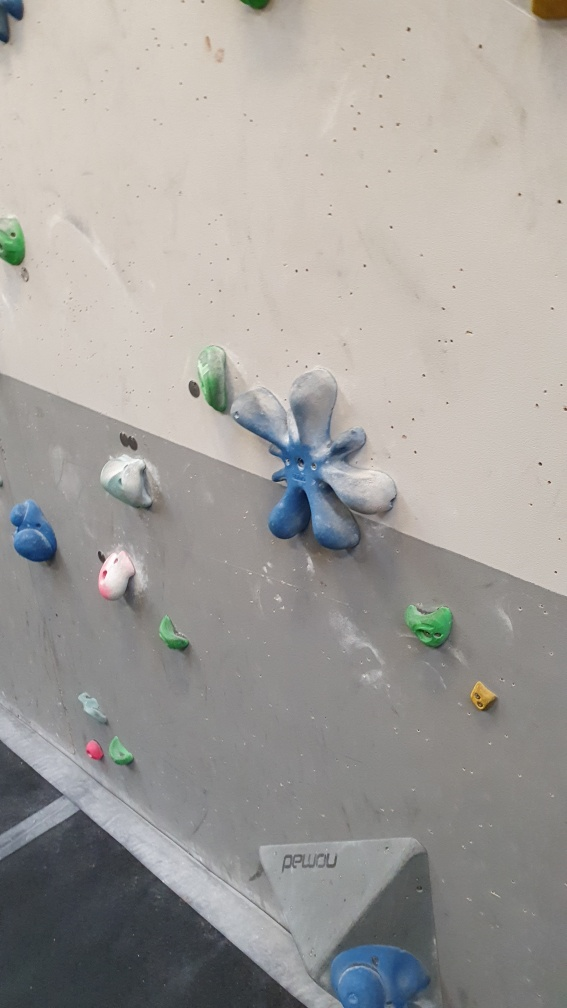Hand Start: (185, 380, 207, 399), (126, 438, 141, 450)
Jug: (399, 600, 456, 652), (109, 455, 156, 512), (199, 345, 233, 416), (154, 614, 197, 653)
Octopus Pinch: (231, 372, 401, 546)
Sloper: (327, 944, 433, 1006), (9, 495, 61, 568)
